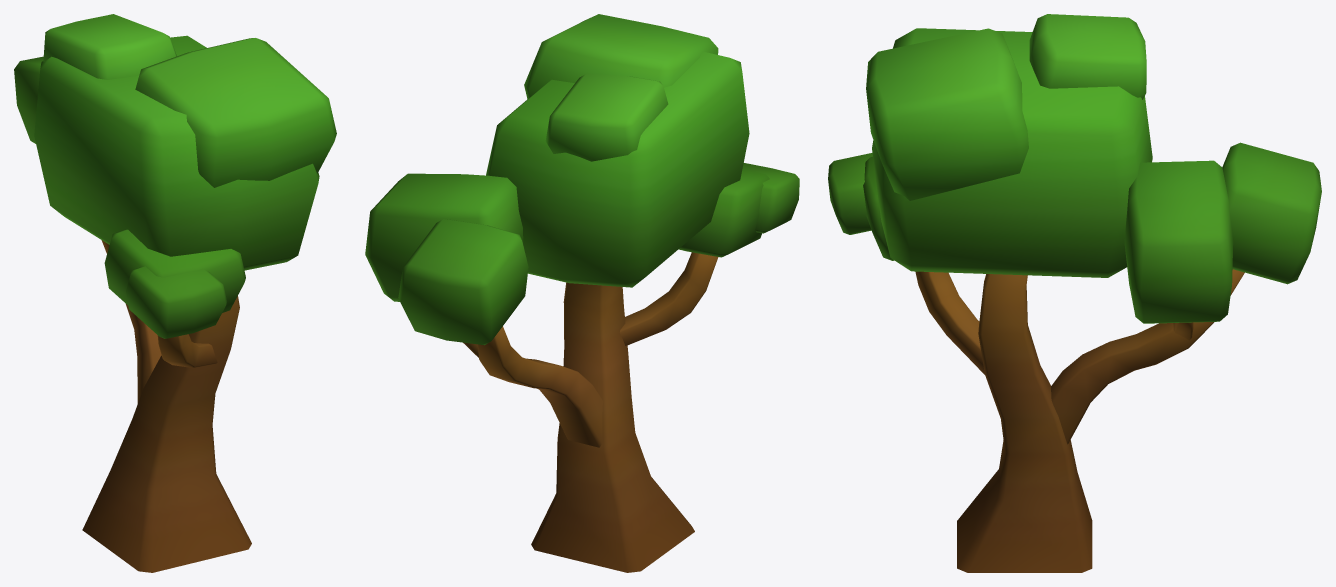
File: Tree_B_5_.fbx
3 renders of one model, left to right at view 1: azimuth 30°, elevation 25°; view 2: azimuth 150°, elevation 25°; view 3: azimuth 270°, elevation 25°, orthographic. The views are drawn at different scales.
Visible parts, largest first — view 1: Tree_B_5; view 2: Tree_B_5; view 3: Tree_B_5.
Part boxes in pixels (x1,y1,x2,y2): Tree_B_5: (14,14,336,572); Tree_B_5: (365,14,799,572); Tree_B_5: (828,14,1321,572).
Size of the model in its own units: 282 by 489 by 435.
